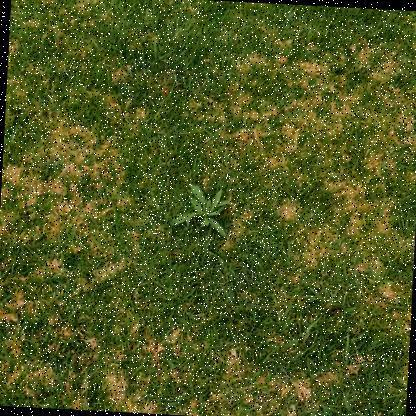Weeds: (169, 183, 235, 236)
